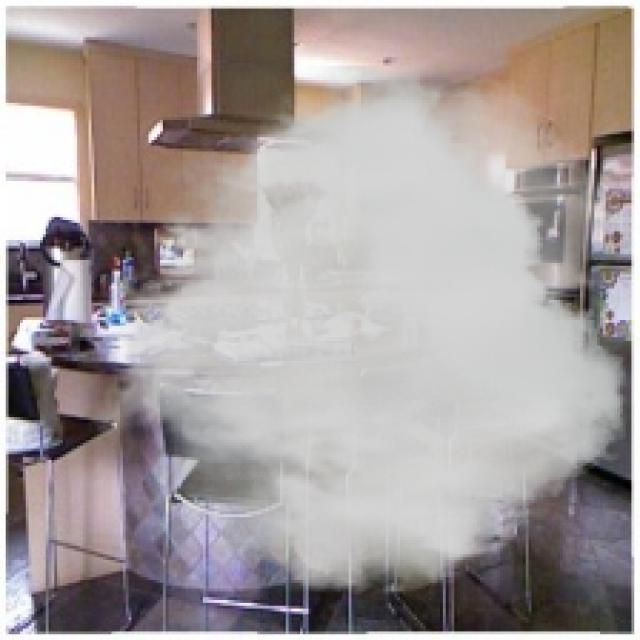Smoke: (85, 65, 626, 600)
